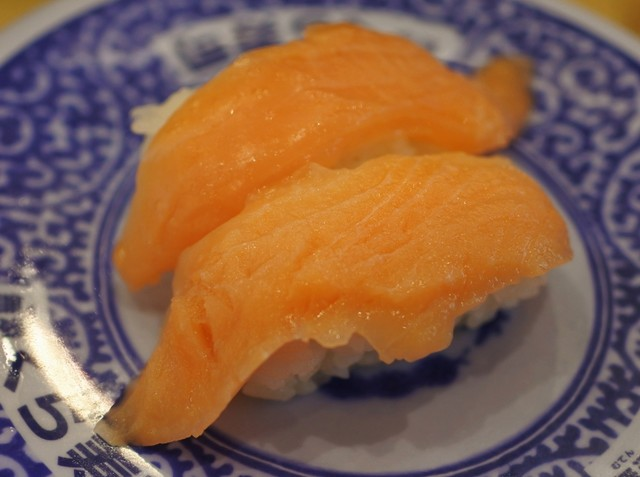salmon: (102, 153, 571, 451)
